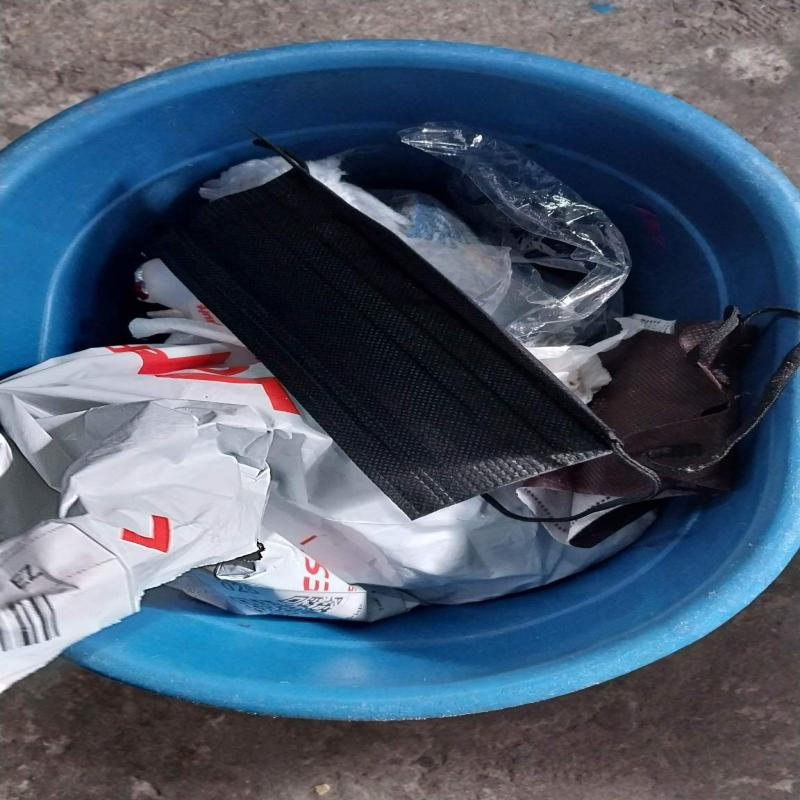facemask: (140, 166, 616, 522), (483, 306, 800, 549)
plastic bag: (0, 342, 654, 698)
